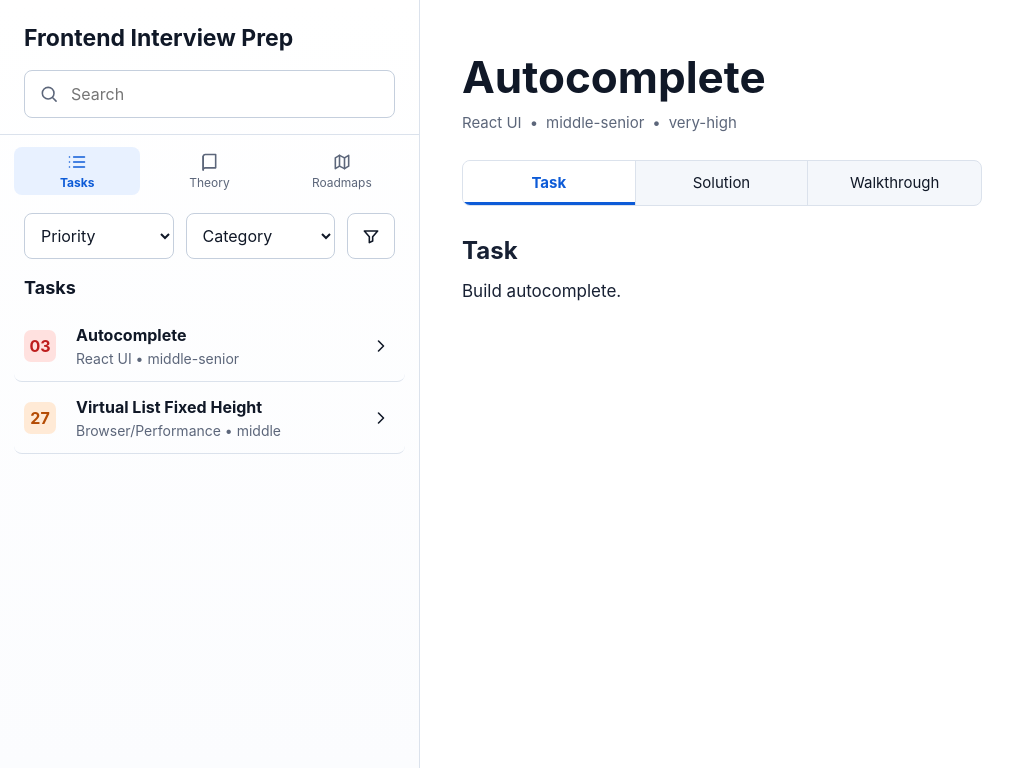
Scenario: App › filters visible tasks from the search box
Type "virtual" into the search field labelled "Search" at (224, 94), box [69,83,380,105]
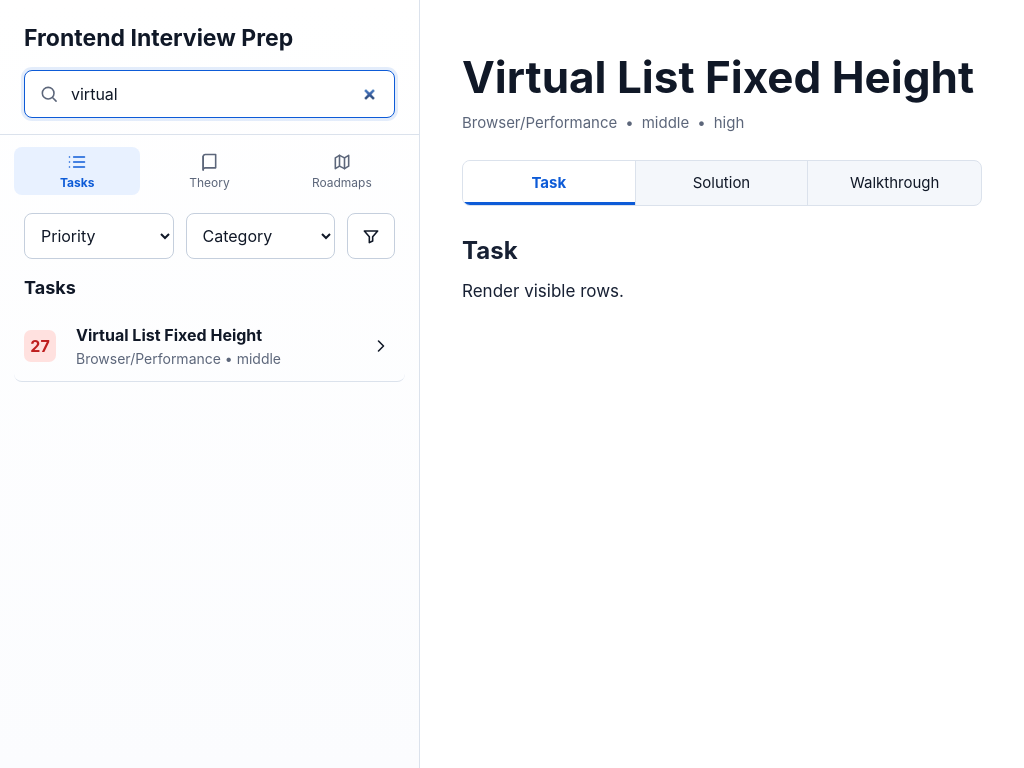
Expected: the text "Virtual List Fixed Height" is shown, [76,325,262,345]
Expected: the button "Autocomplete" is gone
